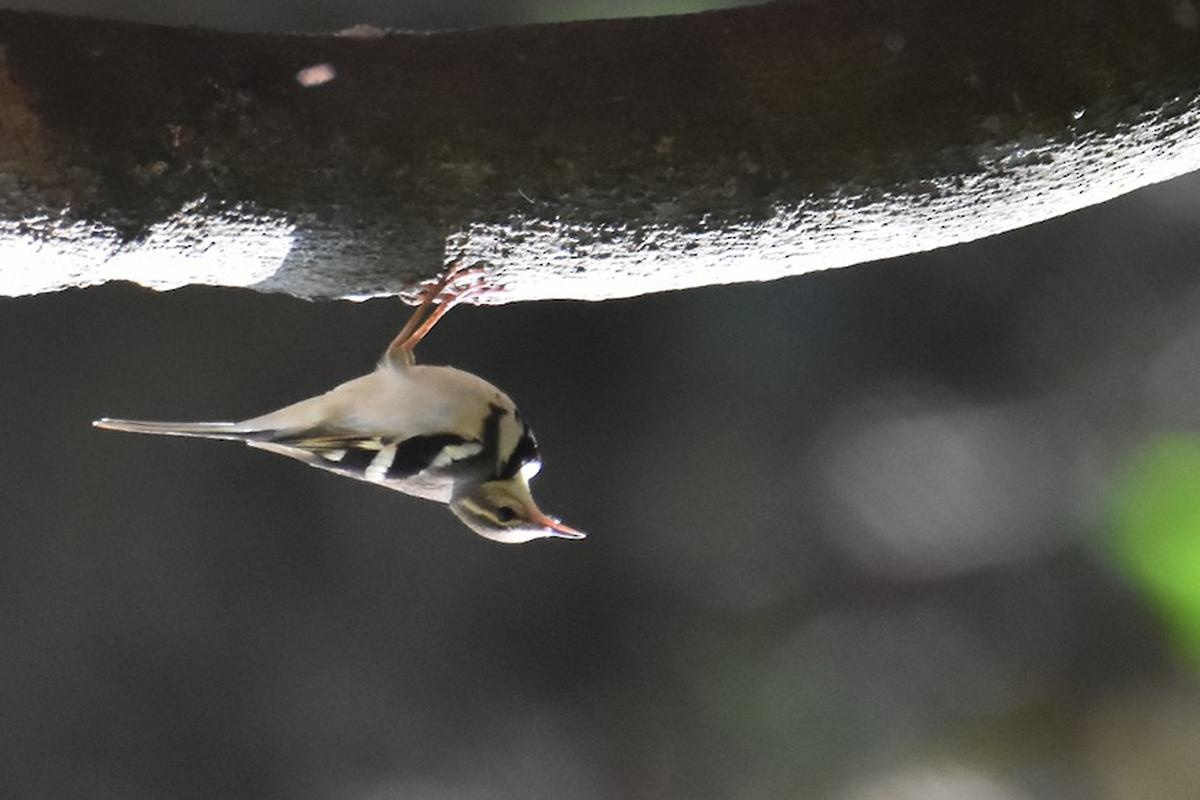wagtail: (149, 307, 593, 550)
